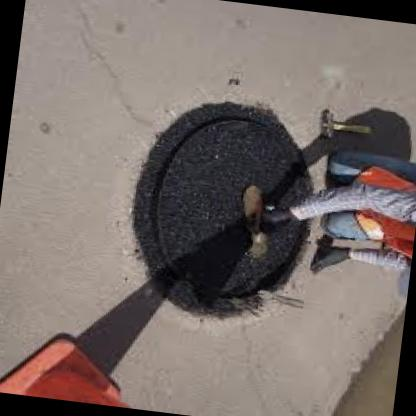manholes: (95, 76, 348, 379)
